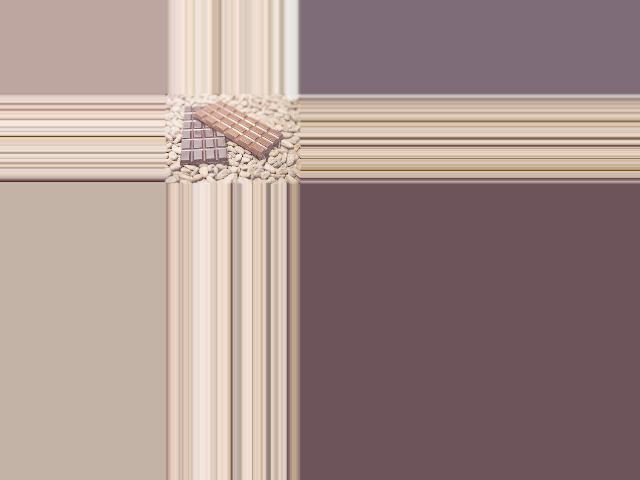chocolate: (174, 102, 227, 167)
